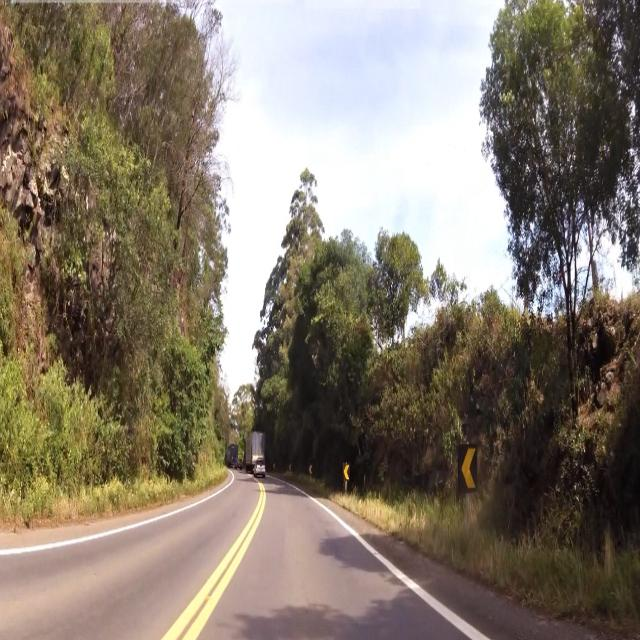Del: (458, 442, 483, 488), (342, 462, 355, 485)
